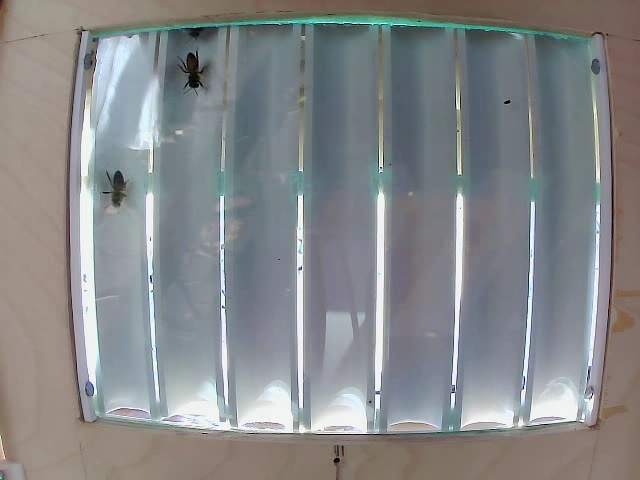bee: (107, 164, 140, 204), (180, 53, 214, 89)
